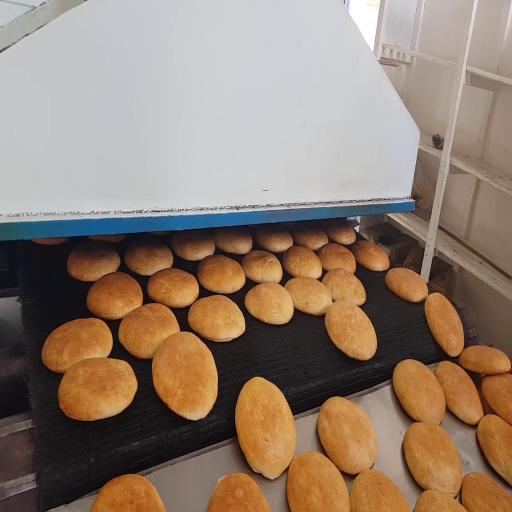bread: (235, 377, 296, 479), (152, 332, 217, 420), (58, 358, 137, 420), (318, 397, 377, 474), (403, 423, 462, 496), (42, 319, 112, 373), (287, 451, 350, 511), (393, 359, 445, 424), (119, 303, 179, 358), (325, 300, 377, 360), (434, 361, 483, 424), (91, 475, 165, 511), (188, 295, 245, 341), (87, 272, 142, 319), (351, 469, 410, 511), (425, 293, 464, 356), (477, 415, 511, 484), (208, 474, 270, 511), (67, 242, 120, 281), (148, 269, 199, 308), (245, 283, 293, 324), (462, 473, 511, 511), (198, 255, 245, 293), (285, 277, 332, 315), (125, 238, 173, 275), (322, 269, 366, 306), (459, 346, 510, 375), (385, 268, 428, 302), (482, 374, 511, 424), (171, 229, 215, 261), (242, 250, 282, 283), (283, 246, 322, 279), (318, 243, 355, 273), (352, 241, 389, 271), (213, 227, 252, 254), (415, 490, 465, 511), (256, 225, 293, 253), (293, 225, 328, 250), (323, 219, 356, 245), (477, 384, 494, 415), (88, 234, 126, 243), (32, 238, 68, 246), (150, 231, 170, 236)
